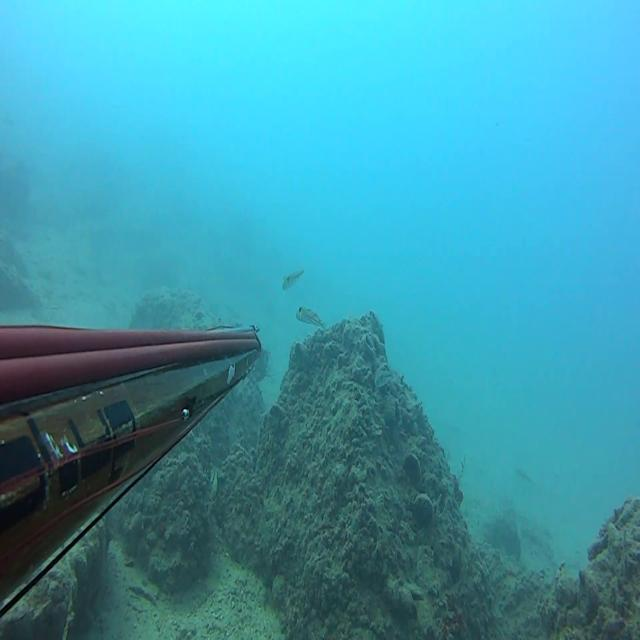Balon Baligi: (296, 306, 329, 332), (282, 268, 304, 291)
